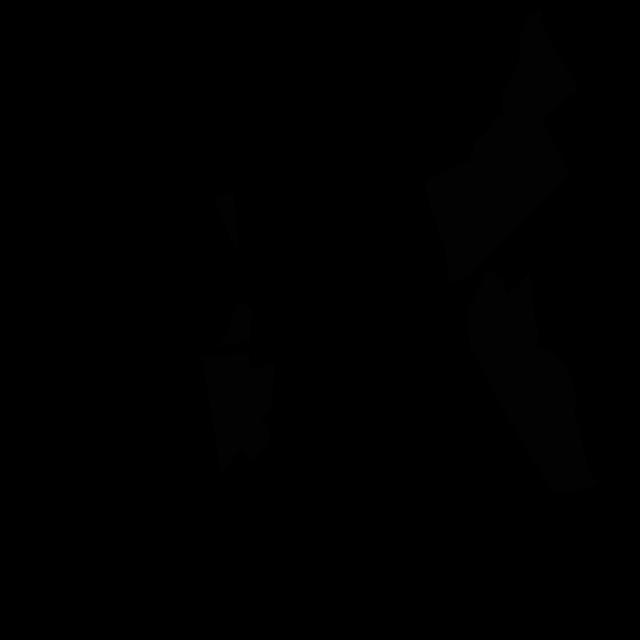cardboard: (425, 9, 580, 284), (466, 270, 600, 493), (202, 352, 276, 474), (212, 192, 239, 259), (217, 300, 252, 348)
